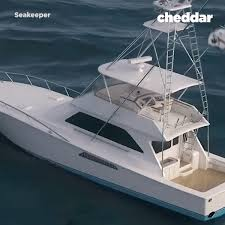tau_dansu: (2, 50, 222, 213)
